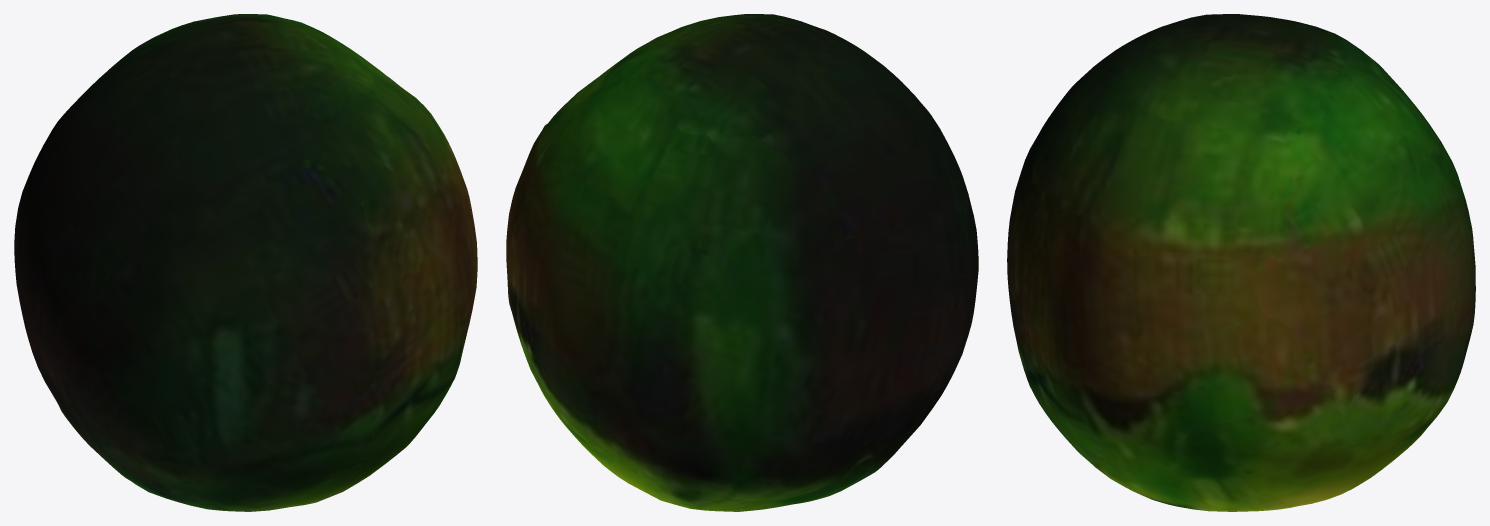
3 views of the same model, side by side, from view 1: azimuth 30°, elevation 25°; view 2: azimuth 150°, elevation 25°; view 3: azimuth 270°, elevation 25° (orthographic). The views are drawn at different scales.
Parts seen in each view (by area): view 1: world; view 2: world; view 3: world.
Part boxes in pixels (left/top/right/bottom): world: left=14, top=14, right=477, bottom=511; world: left=506, top=14, right=978, bottom=511; world: left=1007, top=14, right=1475, bottom=511.
Bounding box in the file's own units: 0.4108 × 0.4264 × 0.4024.
1 material, 1 textured.
